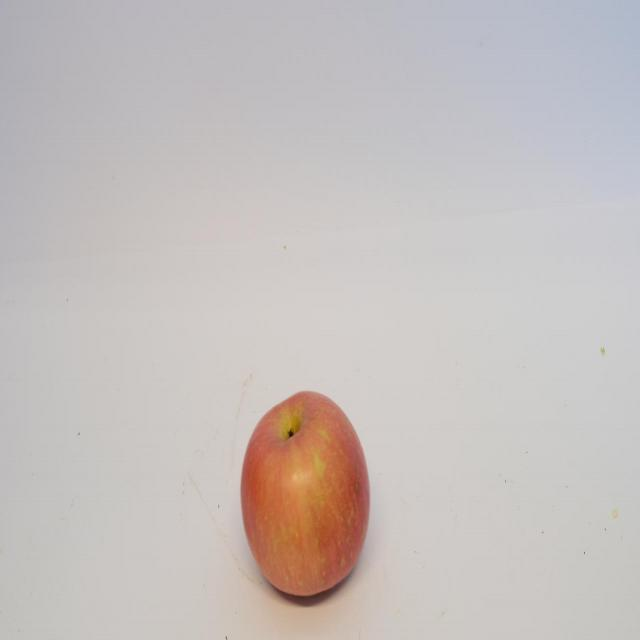apple: (240, 386, 374, 596)
